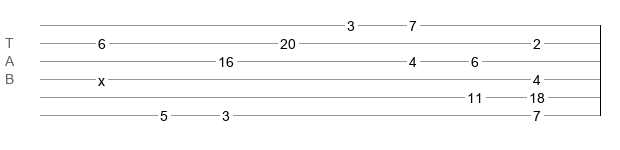11: (467, 90, 483, 100)
16: (218, 54, 234, 64)
18: (529, 90, 545, 100)
2: (533, 36, 541, 46)
20: (280, 36, 296, 46)
3: (222, 108, 230, 118), (347, 18, 355, 28)
4: (409, 54, 417, 64), (533, 72, 541, 82)
5: (160, 108, 168, 118)
6: (98, 36, 106, 46), (471, 54, 479, 64)
7: (409, 18, 417, 28), (533, 108, 541, 118)
x: (98, 73, 105, 81)
